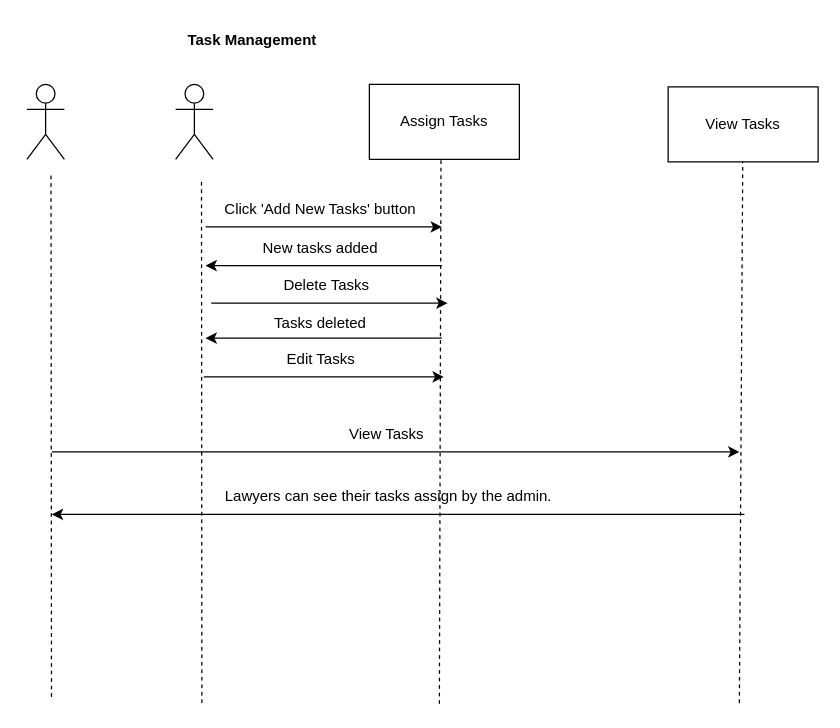
Some shapes in this 840 by 728 pixel diagram are drawn without their labels. Each missing label, with the centre of its shape:
Admin: the point at 193,121
Lawyer: the point at 45,121
